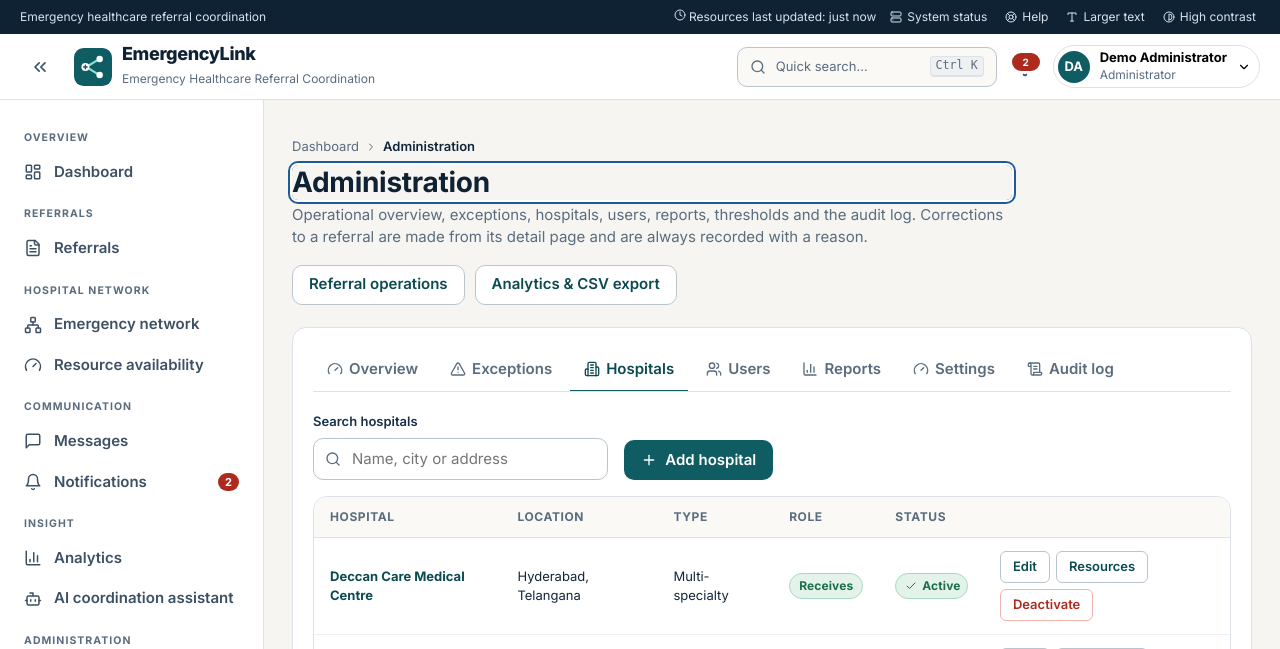
Scenario: administrator operations › requires a reason before deactivating a hospital
The width and height of the screenshot is (1280, 649).
Click the 1st button "Deactivate" at (1047, 605), box [1000,589,1093,621]
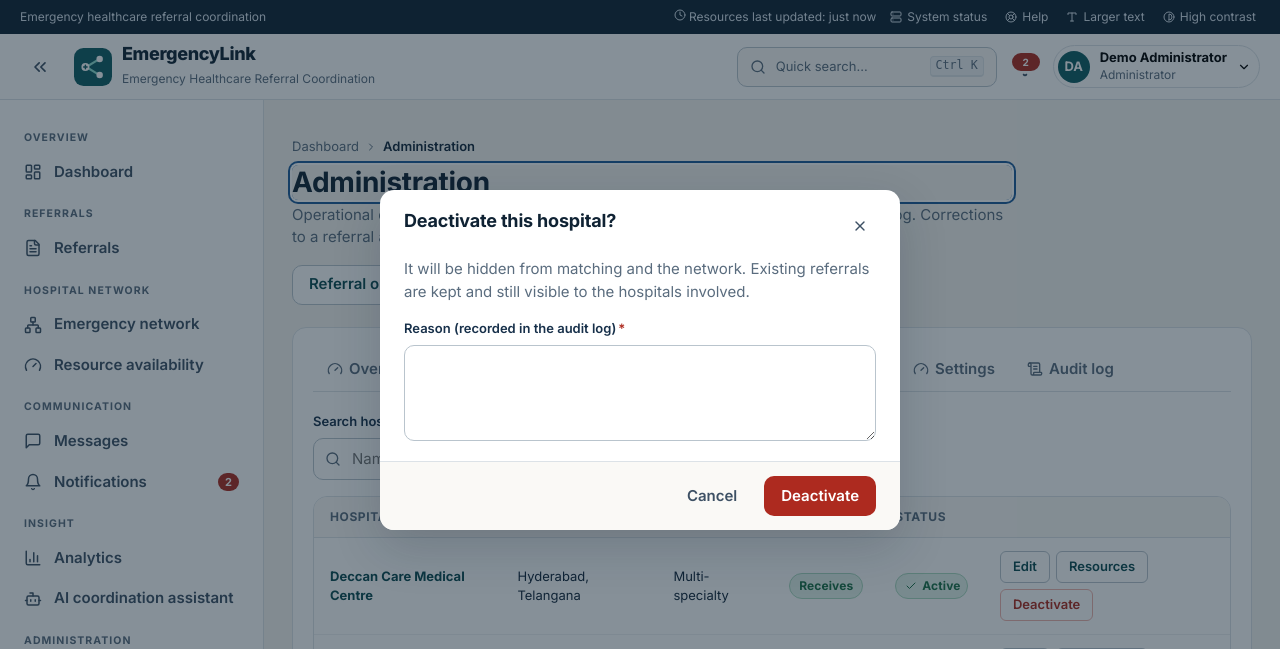
Click the button "Deactivate" at (820, 496), box [764,476,876,516]
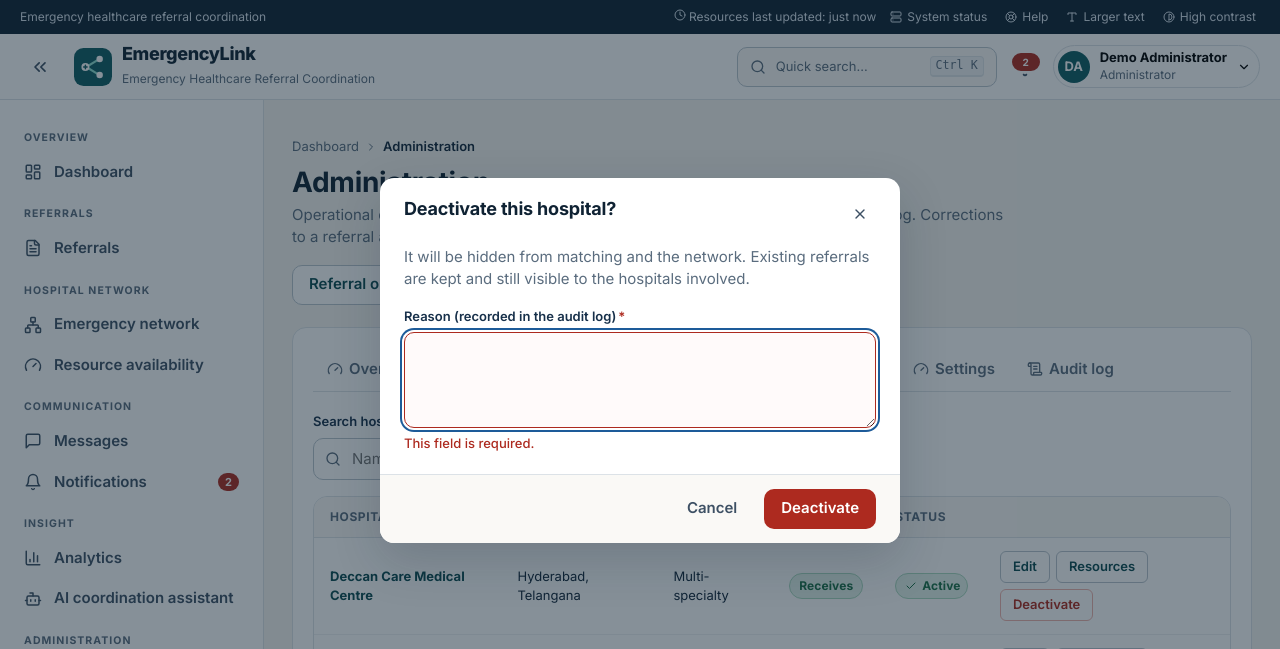
Now the text "This field is required." is shown, box [404,435,534,451]
